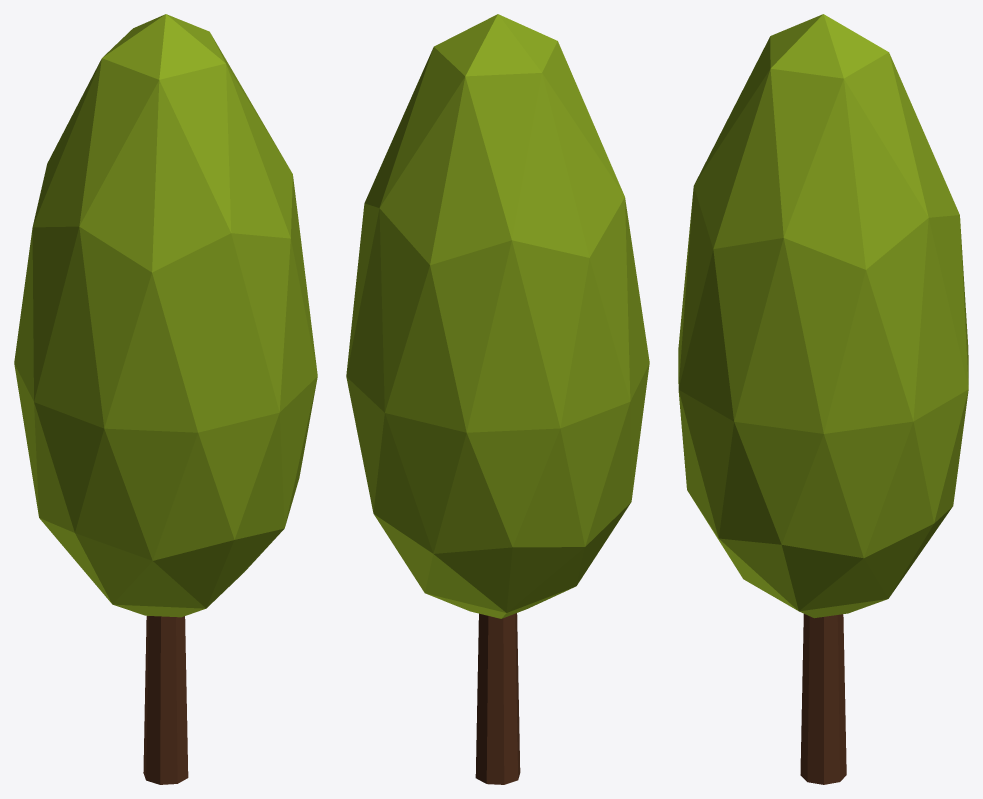
Rendered from tree-2.fbx.
3 renders of one model, left to right at view 1: azimuth 30°, elevation 25°; view 2: azimuth 150°, elevation 25°; view 3: azimuth 270°, elevation 25°, orthographic.
Visible parts, largest first — view 1: tree-2; view 2: tree-2; view 3: tree-2.
Boxes of the visible parts, <box> form: tree-2: <box>14,14,317,784</box>; tree-2: <box>346,14,649,784</box>; tree-2: <box>678,14,968,784</box>.
Size of the model in its own units: 175 by 483 by 167.
